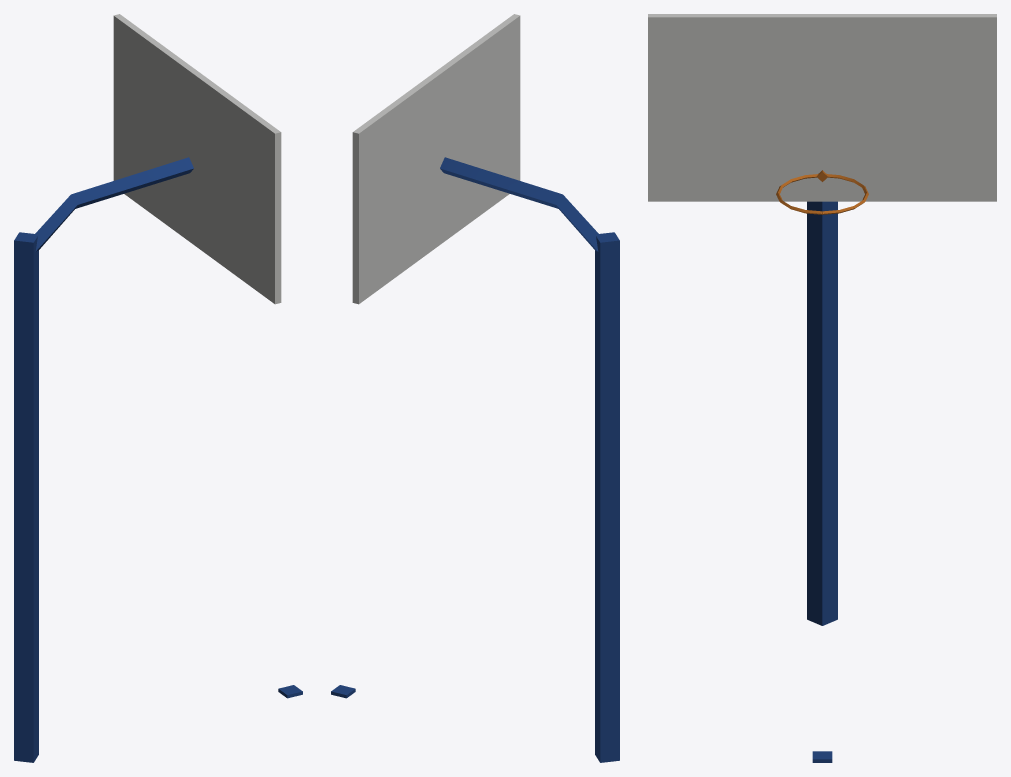
Rendered from SM_Prop_basket_hoop_0_LOD1.glb.
3 views of the same model, side by side, from view 1: azimuth 30°, elevation 25°; view 2: azimuth 150°, elevation 25°; view 3: azimuth 270°, elevation 25° (orthographic). The views are drawn at different scales.
Parts seen in each view (by area): view 1: SM_Prop_basket_hoop_0_LOD1; view 2: SM_Prop_basket_hoop_0_LOD1; view 3: SM_Prop_basket_hoop_0_LOD1.
Boxes of the visible parts, left/top/right/bottom form: SM_Prop_basket_hoop_0_LOD1: left=14, top=14, right=302, bottom=762; SM_Prop_basket_hoop_0_LOD1: left=331, top=14, right=619, bottom=762; SM_Prop_basket_hoop_0_LOD1: left=648, top=14, right=996, bottom=762.
Size of the model in its own units: 1.83 by 3.95 by 1.8.
